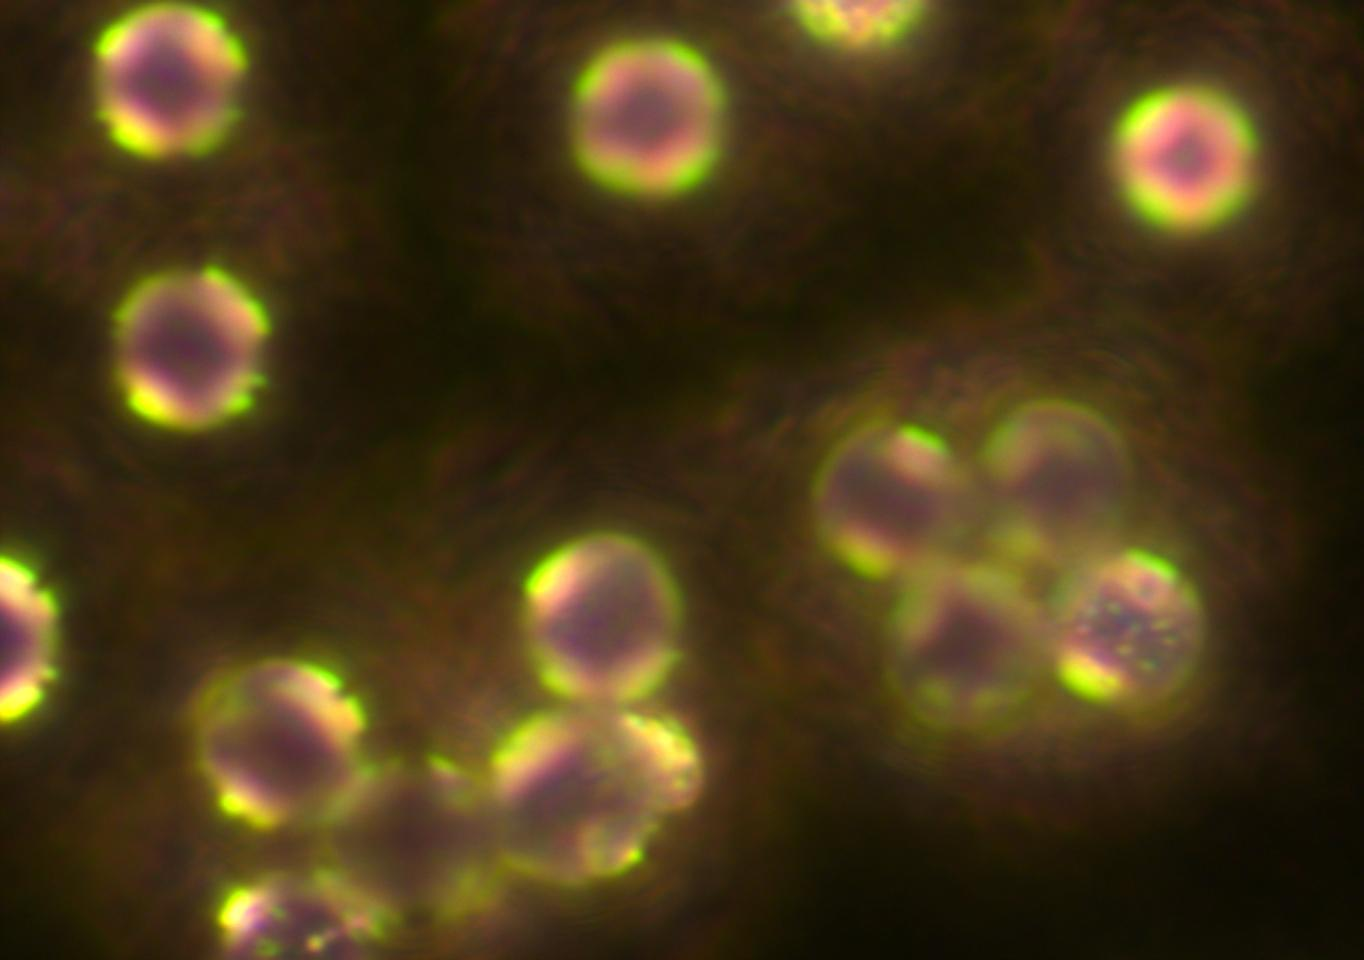Microplastics: (487, 703, 672, 886), (315, 754, 504, 927), (973, 397, 1133, 566), (529, 535, 679, 709), (203, 660, 363, 823), (887, 559, 1047, 717), (1049, 549, 1201, 711), (570, 39, 725, 195), (820, 422, 969, 577), (114, 273, 261, 424), (96, 5, 242, 156), (1113, 84, 1255, 228), (219, 870, 373, 959), (794, 0, 924, 46)
